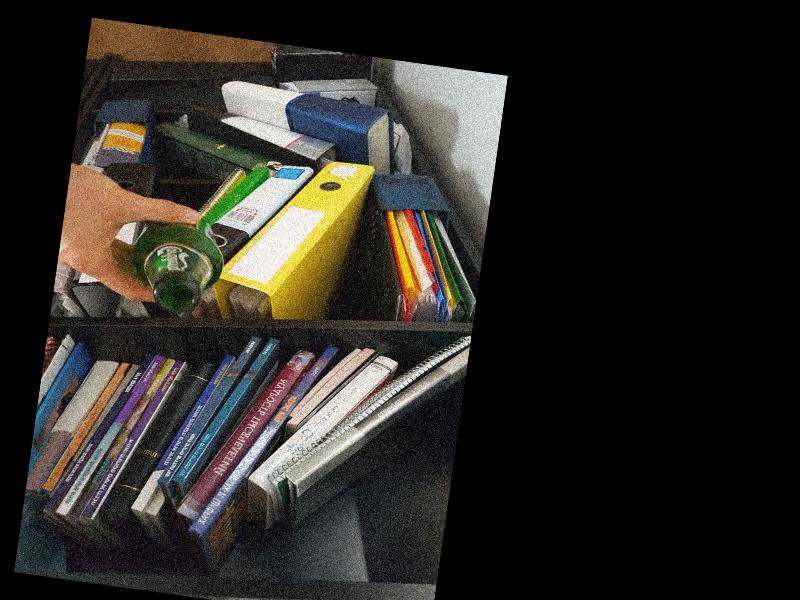Beer: (129, 209, 228, 315)
